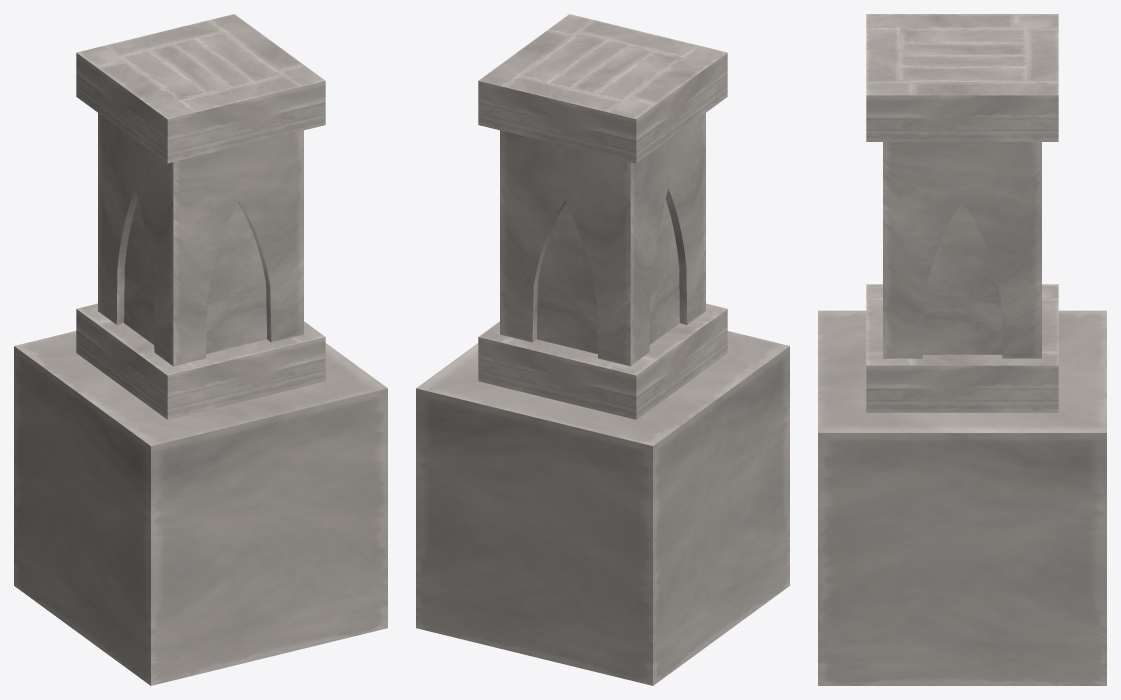
File: GuardRail_C_CornerPost_B.fbx
The picture shows the model from 3 angles, left to right: view 1: azimuth 30°, elevation 25°; view 2: azimuth 150°, elevation 25°; view 3: azimuth 270°, elevation 25°; orthographic projection. The views are drawn at different scales.
Parts seen in each view (by area): view 1: GuardRail_C_CornerPost_B; view 2: GuardRail_C_CornerPost_B; view 3: GuardRail_C_CornerPost_B.
Boxes of the visible parts, x1,y1,x2,y2 form: GuardRail_C_CornerPost_B: [14, 14, 387, 685]; GuardRail_C_CornerPost_B: [416, 14, 789, 685]; GuardRail_C_CornerPost_B: [818, 14, 1106, 685].
Bounding box in the file's own units: 0.75 × 0.75 × 1.63.
